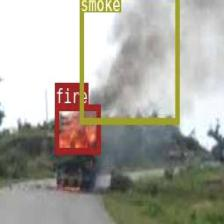fire: (54, 103, 100, 152)
smoke: (78, 0, 178, 122)
